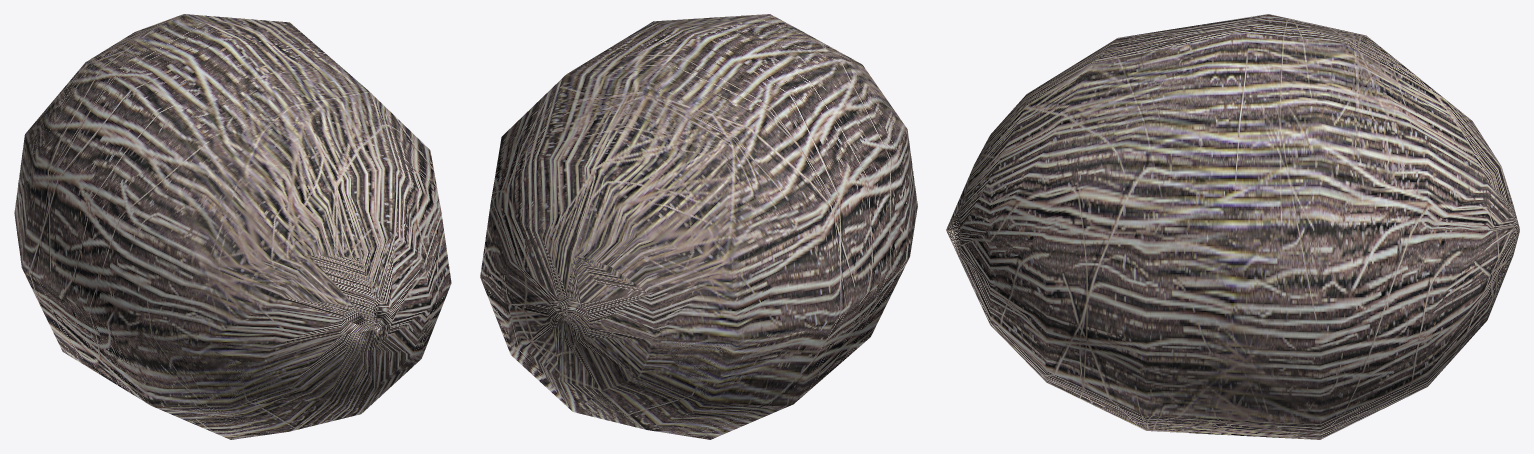
The model's file is CoconutBrown.DAE.
3 renders of one model, left to right at view 1: azimuth 30°, elevation 25°; view 2: azimuth 150°, elevation 25°; view 3: azimuth 270°, elevation 25°, orthographic. The views are drawn at different scales.
Parts seen in each view (by area): view 1: coconutBrown100, coconutBrown50; view 2: coconutBrown100, coconutBrown50; view 3: coconutBrown100, coconutBrown50.
Boxes of the visible parts, x1,y1,x2,y2 form: coconutBrown100: (14,14,451,439); coconutBrown50: (200,255,450,405); coconutBrown100: (480,14,917,439); coconutBrown50: (494,254,737,429); coconutBrown100: (946,14,1519,439); coconutBrown50: (946,167,1512,372).
Bounding box in the file's own units: 13.74 × 18.77 × 13.78.
